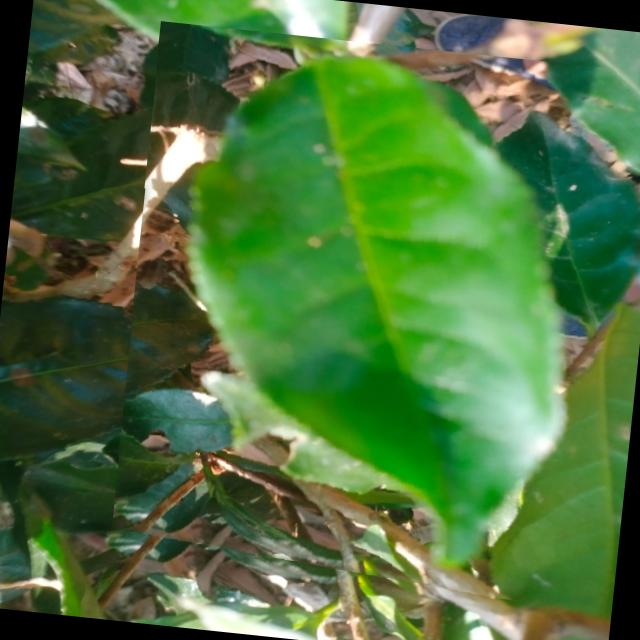Category D(7+ days, Not for Tea): (102, 21, 622, 610)
